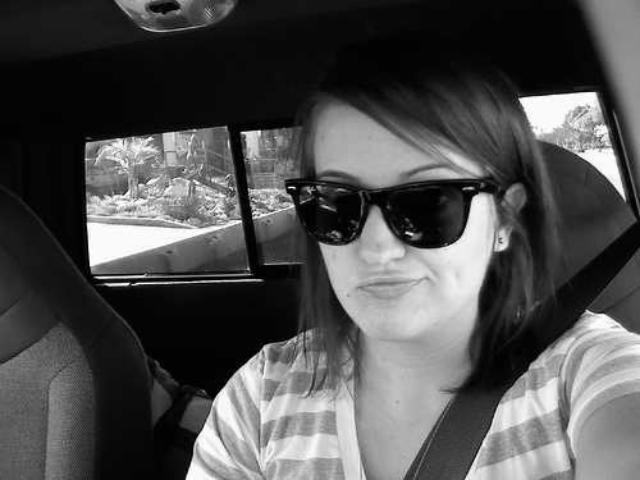Seatbelt: (408, 216, 640, 480)
